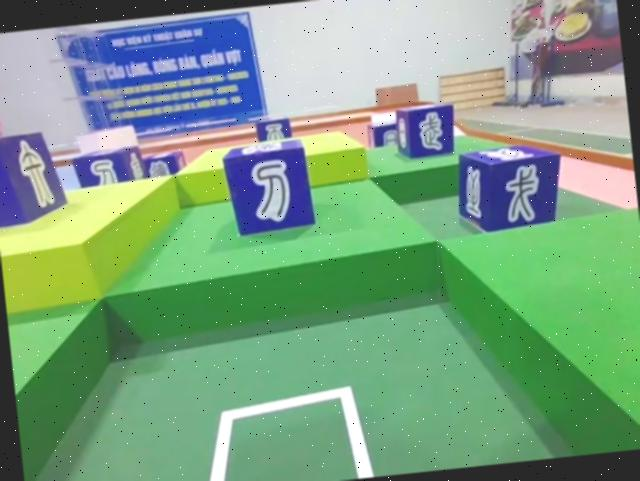R2 Fake Blue: (452, 142, 568, 238), (221, 136, 318, 238), (0, 131, 66, 233), (394, 103, 458, 164), (71, 145, 148, 190), (139, 150, 185, 180), (254, 113, 293, 142)
